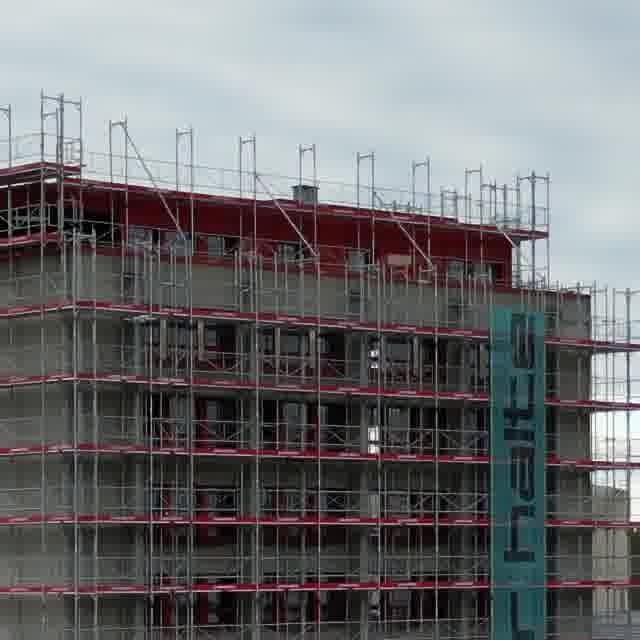Drohne: (129, 314, 153, 322)
